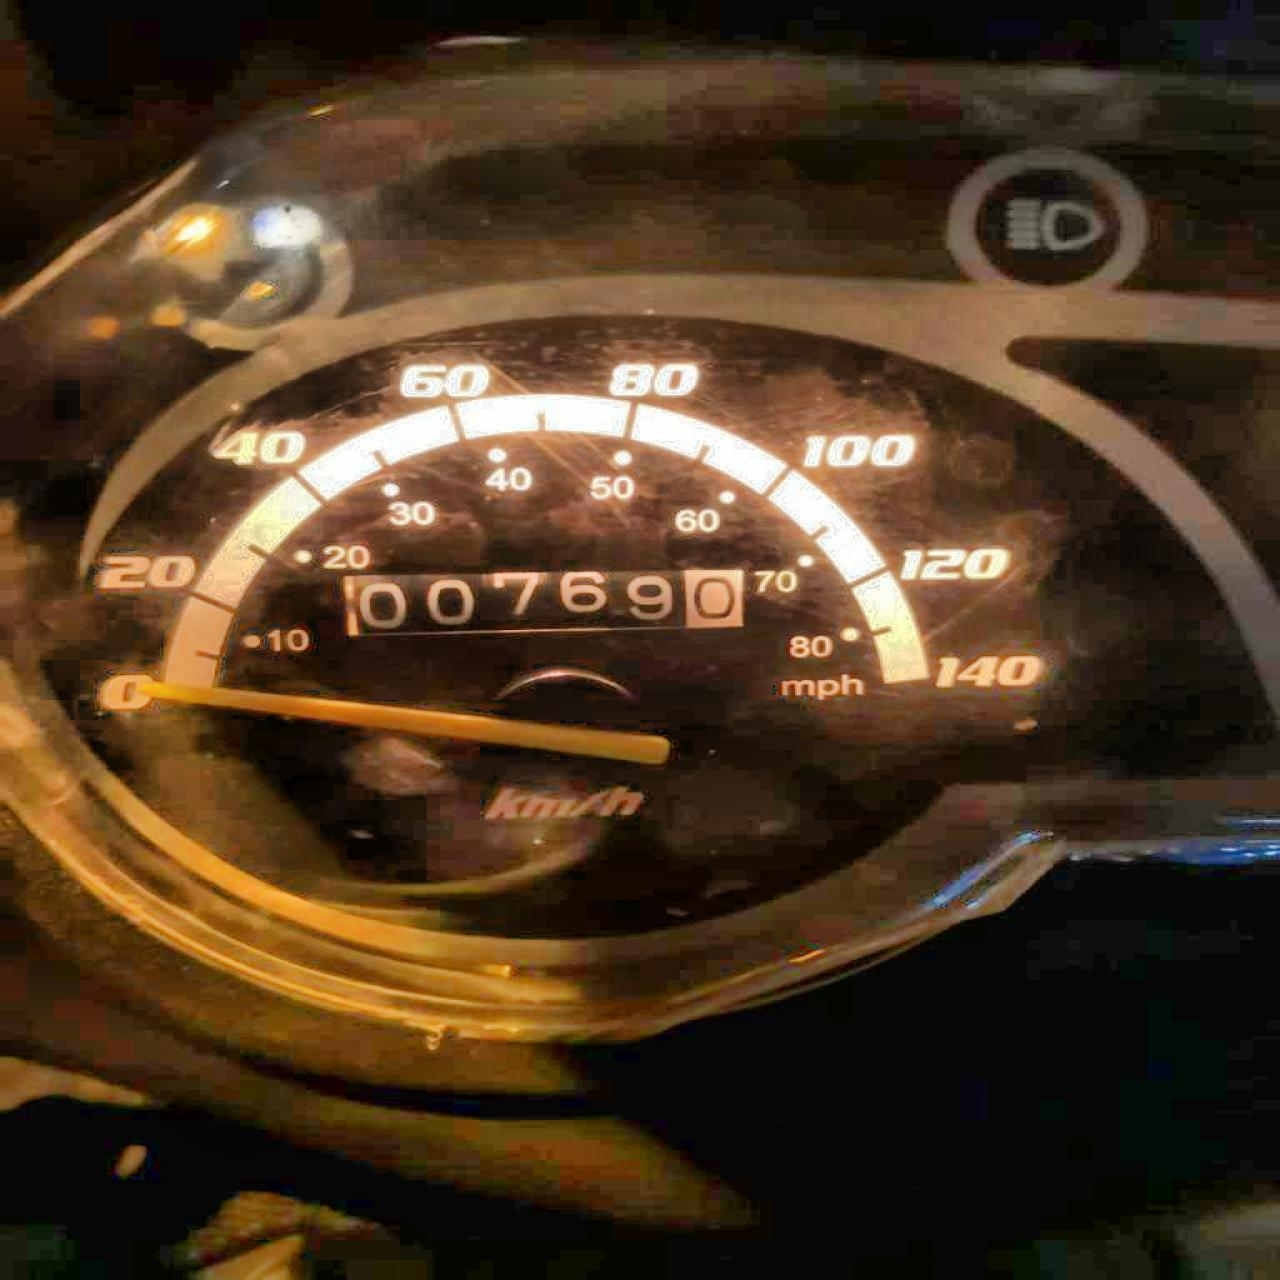0: (356, 581, 407, 628), (425, 579, 475, 625), (692, 577, 734, 619)
6: (557, 570, 605, 612)
7: (492, 572, 538, 617)
9: (625, 574, 672, 620)
odometer: (339, 566, 747, 639)
